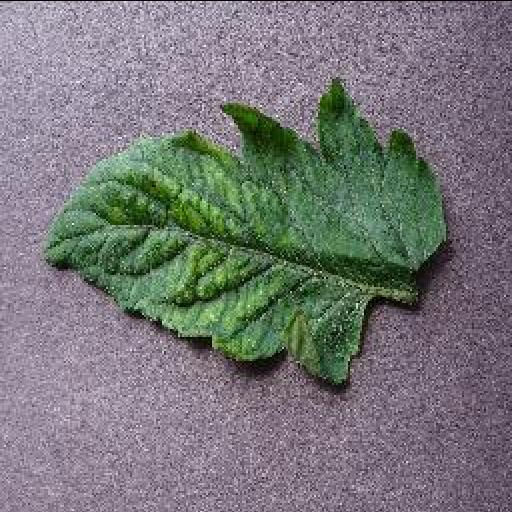disease_tomato: (40, 74, 451, 388)
